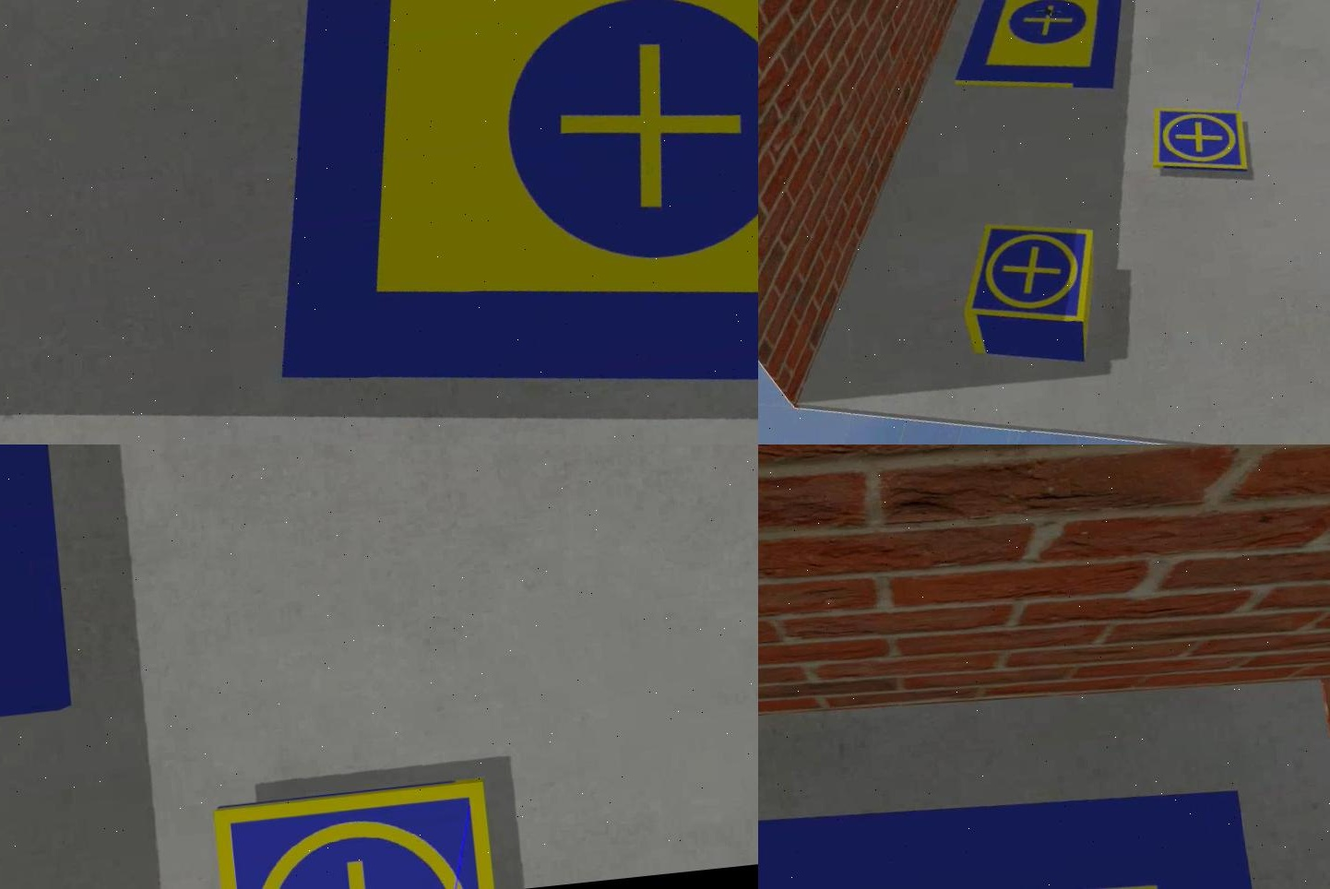large_base: (229, 1, 756, 445), (756, 754, 1290, 889), (0, 445, 80, 724), (944, 1, 1129, 100)
small_base: (211, 776, 499, 889), (950, 213, 1103, 345), (1144, 100, 1252, 184)
